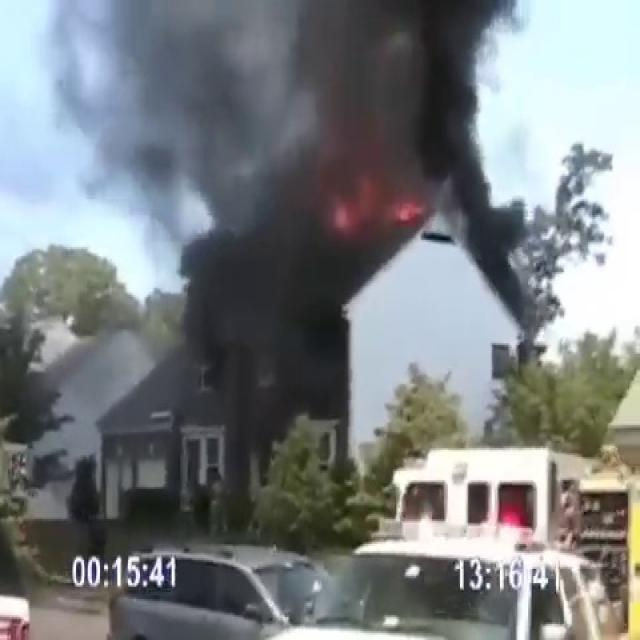Smoke: (34, 2, 573, 349)
